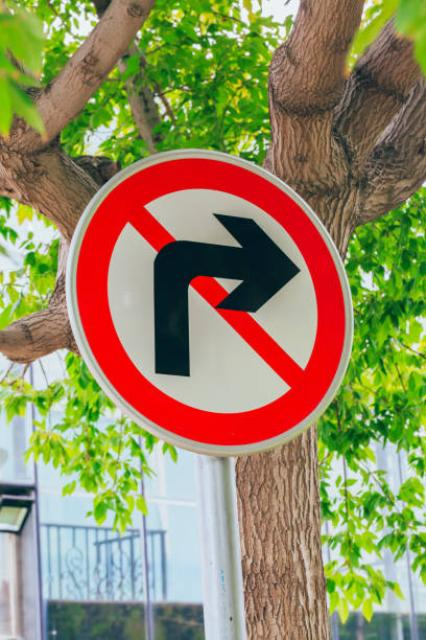not_turn_right: (63, 136, 358, 464)
